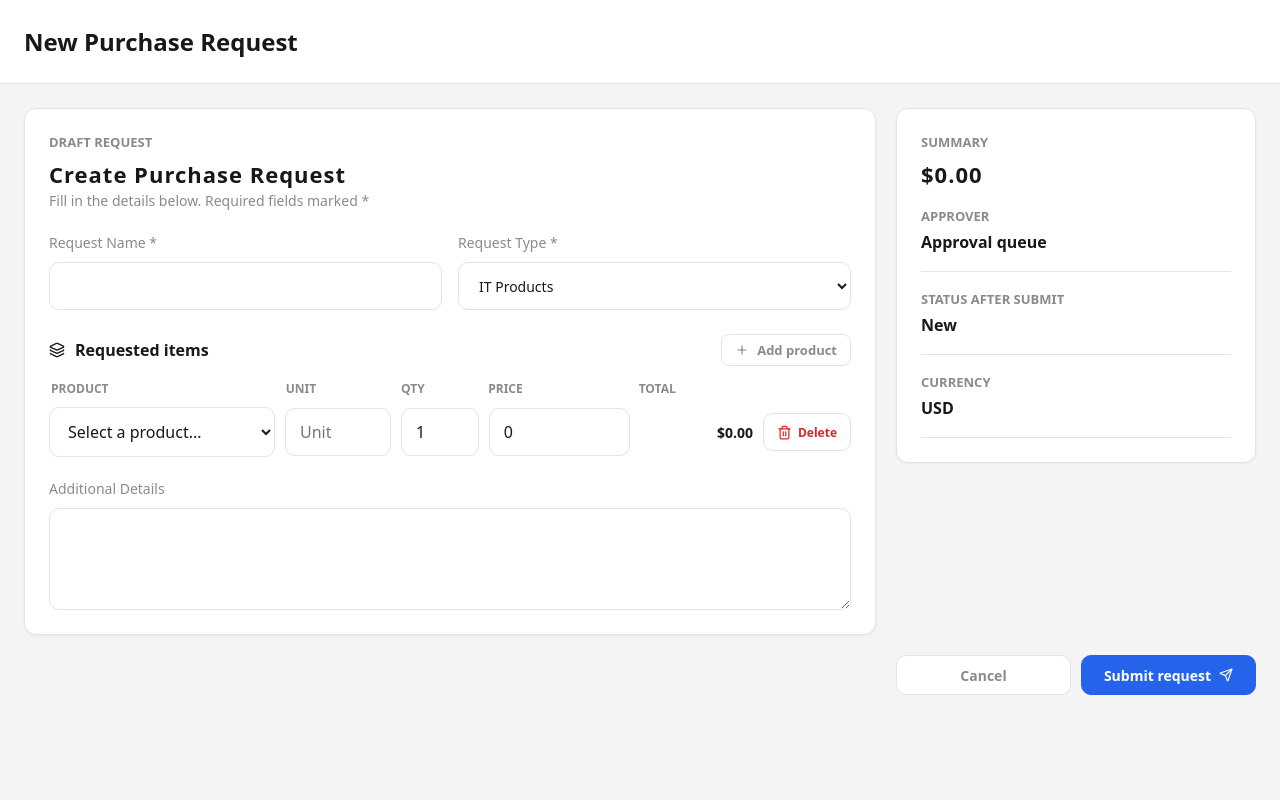
RequestForm › adds and removes item rows
Click the button "Add product". click: (786, 350)
box: x1=721 y1=334 x2=851 y2=366
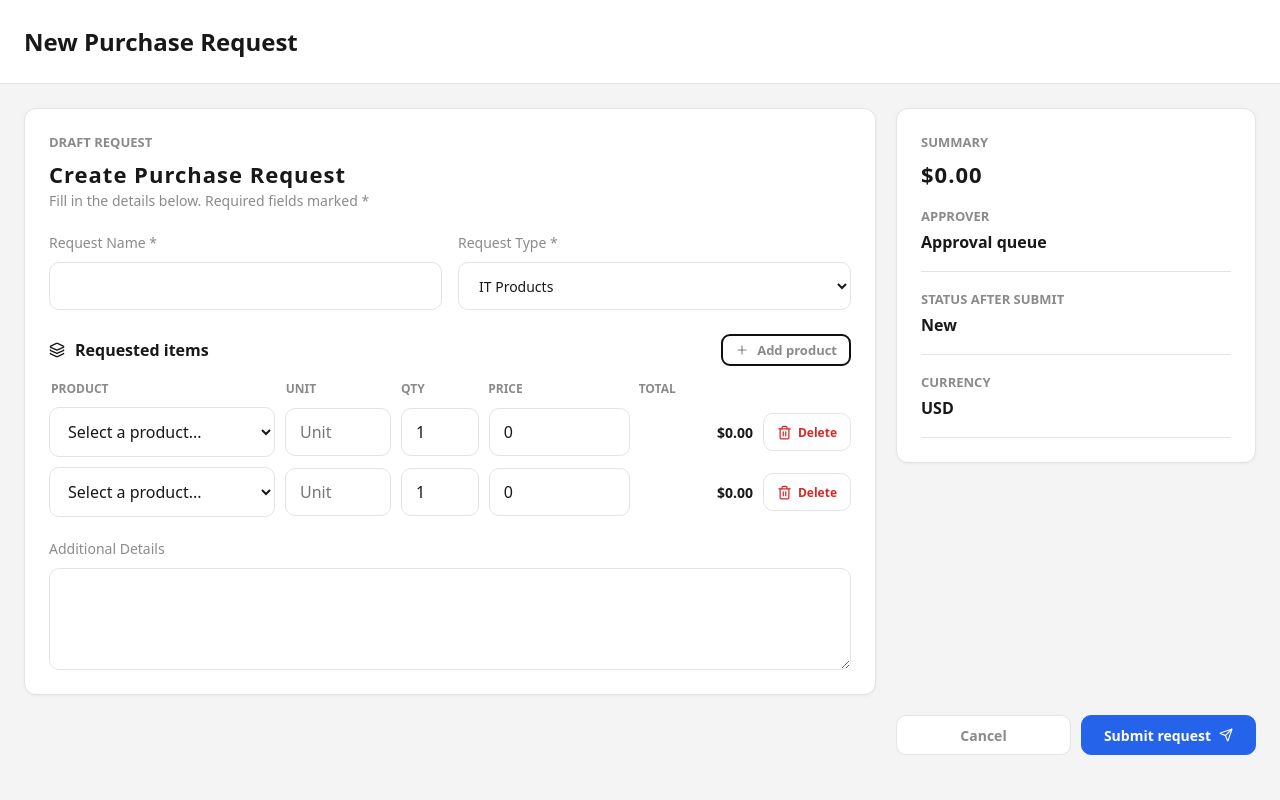
Result: the number of dropdowns named "Product" is 2 at x1=49 y1=407 x2=275 y2=457; x1=49 y1=467 x2=275 y2=517
Click the button with aria-label "Remove product 2". click: (807, 492)
box: x1=763 y1=473 x2=851 y2=511
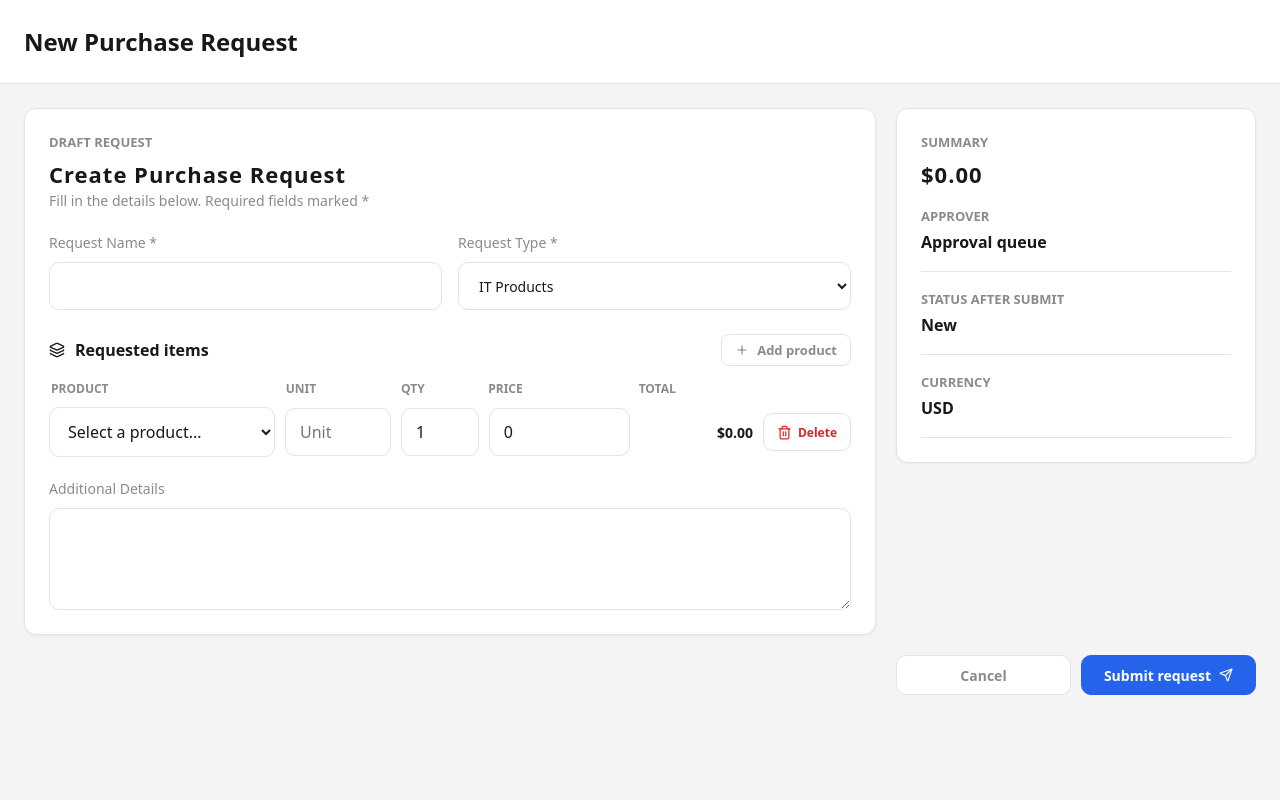
Result: the number of dropdowns named "Product" is 1 at x1=49 y1=407 x2=275 y2=457
